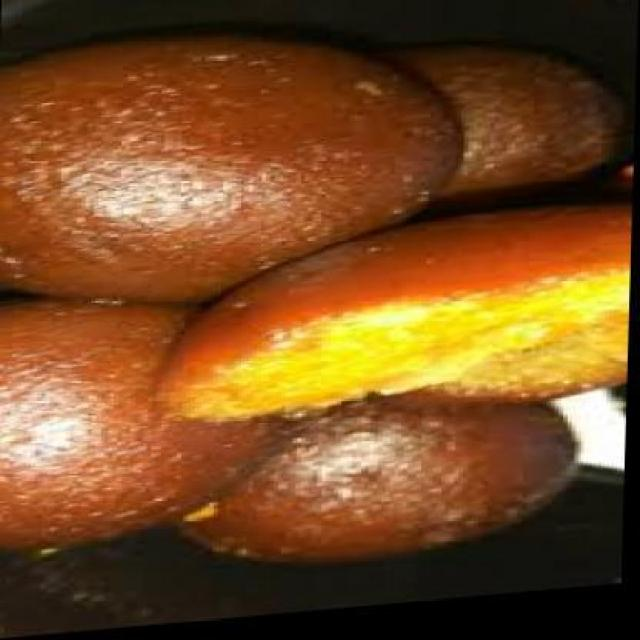gulab_jamun: (0, 17, 468, 321), (158, 211, 634, 438), (0, 283, 302, 555), (174, 389, 580, 580), (352, 37, 632, 229)
